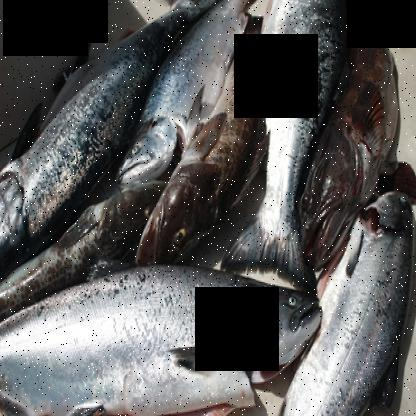fish: (0, 267, 326, 415), (132, 0, 276, 281), (113, 0, 261, 195)
